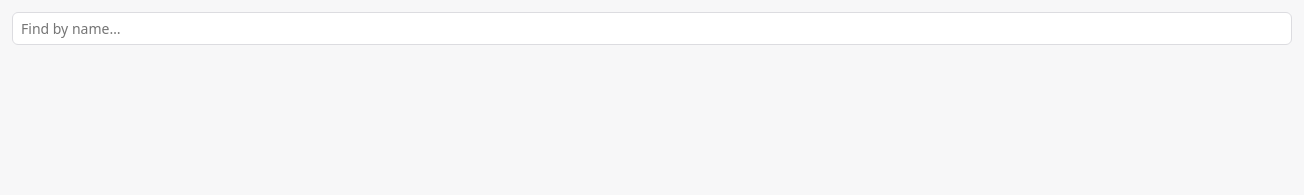
Test: Find › lists the matches for what is typed, with their folder
The width and height of the screenshot is (1304, 195).
Type "img_24" into the search field named "Find a file or folder by name" at (652,28), box [12, 12, 1292, 45]
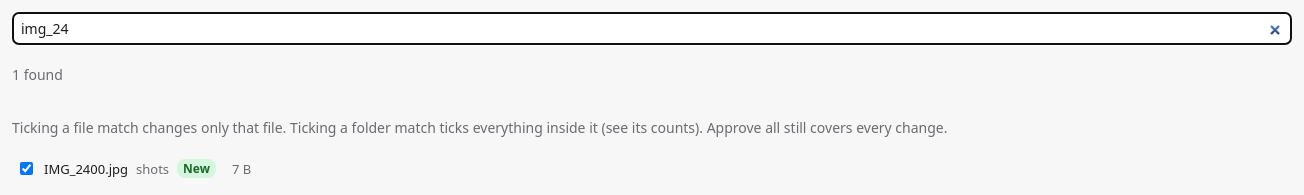
Now the checkbox named "shots/IMG_2400.jpg" is checked, box [20, 162, 33, 175]
Now the text "IMG_2400.jpg" is shown, box [44, 160, 128, 178]
Now the text "shots" is shown, box [136, 160, 169, 178]
